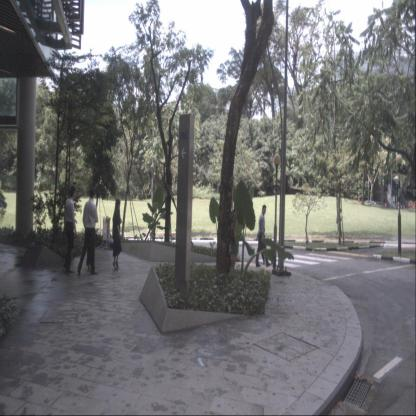human-pedestrian-adult: (76, 187, 98, 275), (63, 186, 78, 274), (228, 200, 243, 275), (255, 204, 272, 267), (112, 199, 122, 270)
